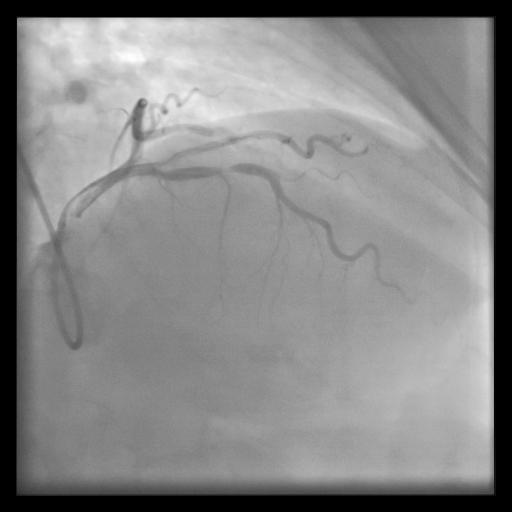Stenosis: (216, 163, 235, 177)
